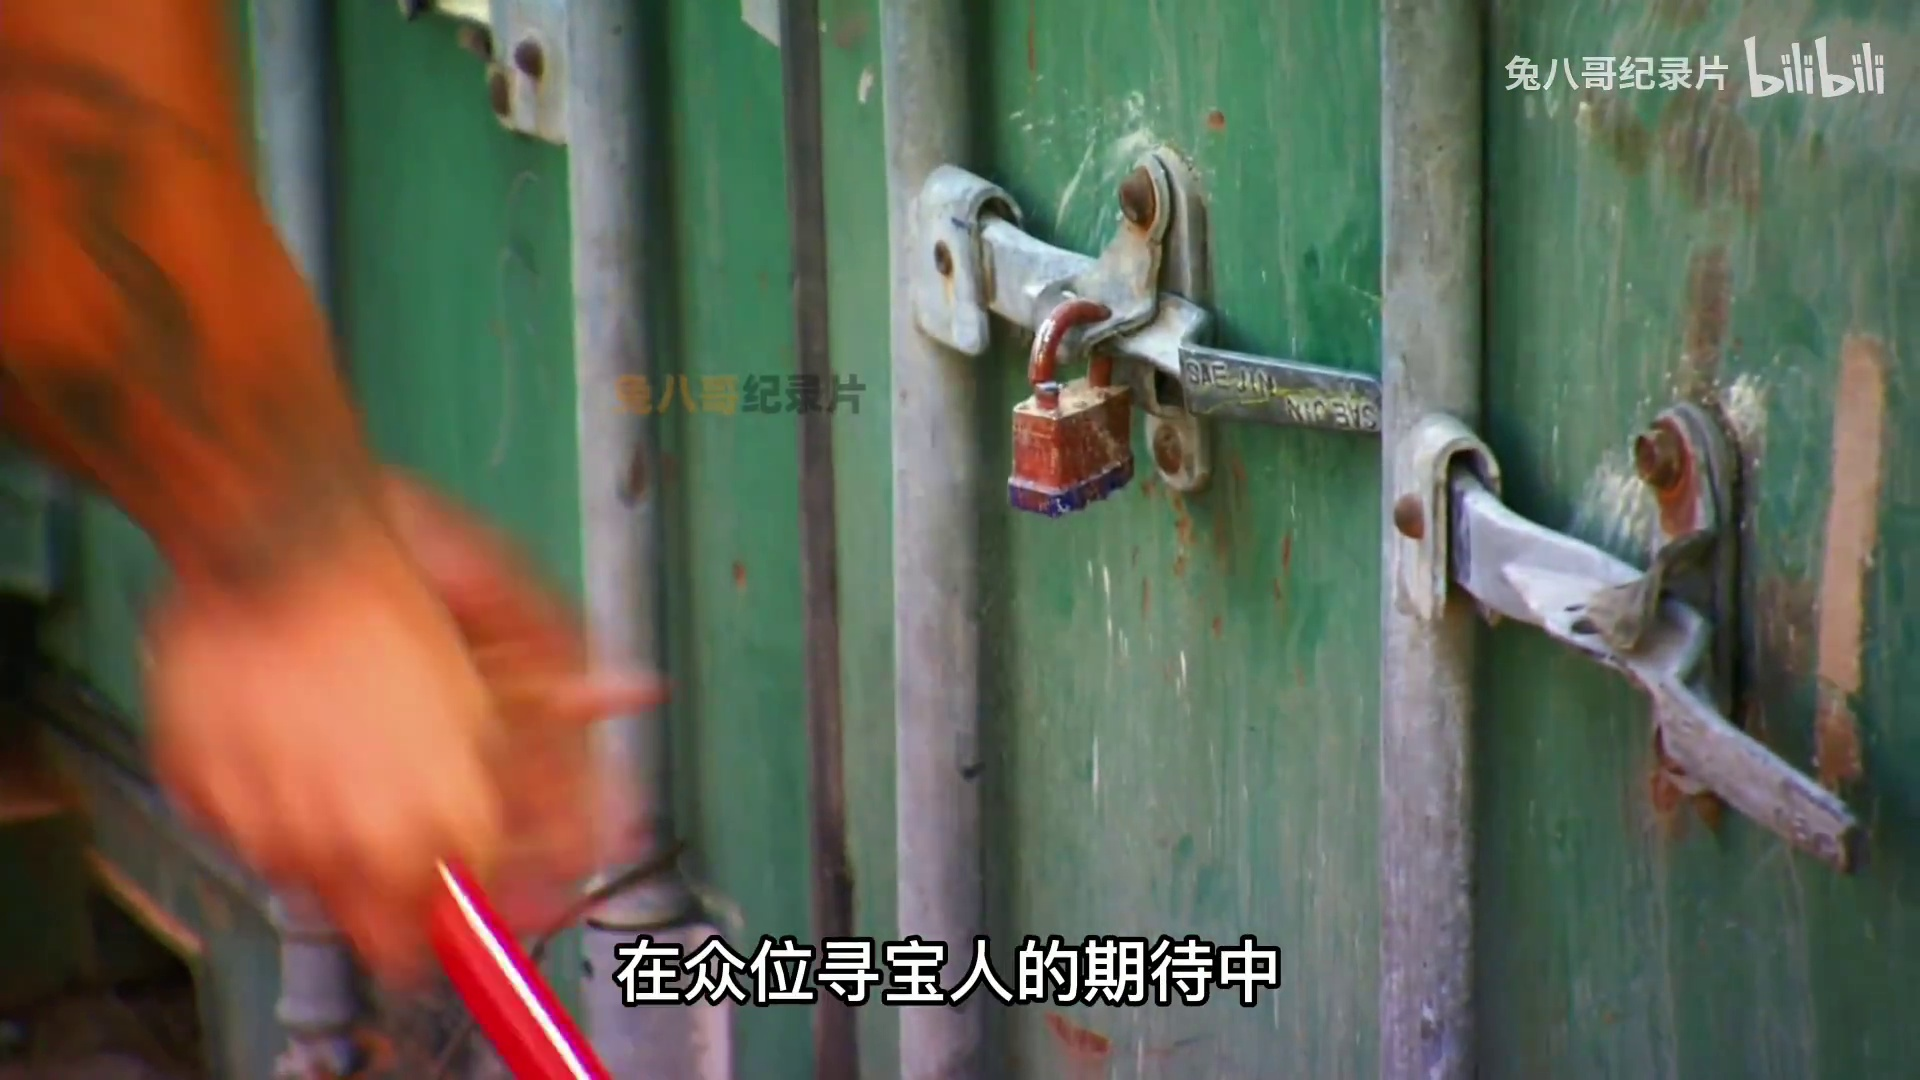container: (85, 20, 1895, 1033)
opendoor: (307, 797, 833, 1067)
person: (10, 8, 612, 963)
